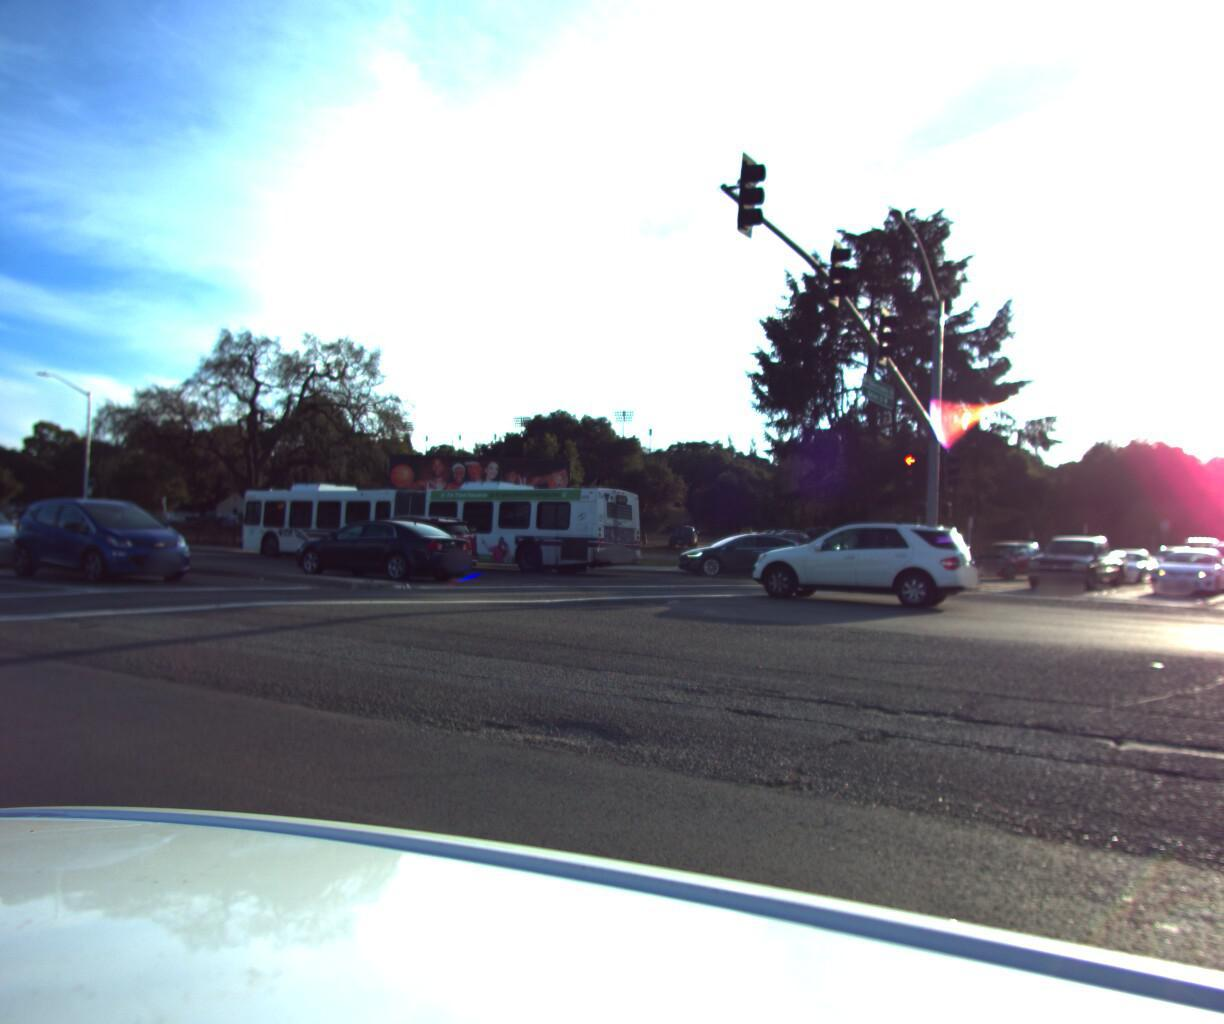bus: (406, 478, 661, 574), (241, 475, 464, 563)
car: (0, 474, 203, 585), (747, 514, 978, 610), (282, 510, 479, 583), (336, 507, 494, 574), (1012, 527, 1131, 592), (678, 525, 825, 573), (0, 475, 52, 566), (1142, 540, 1224, 591), (956, 536, 1060, 576), (1084, 539, 1157, 582), (1162, 530, 1224, 569), (1182, 532, 1224, 588)
